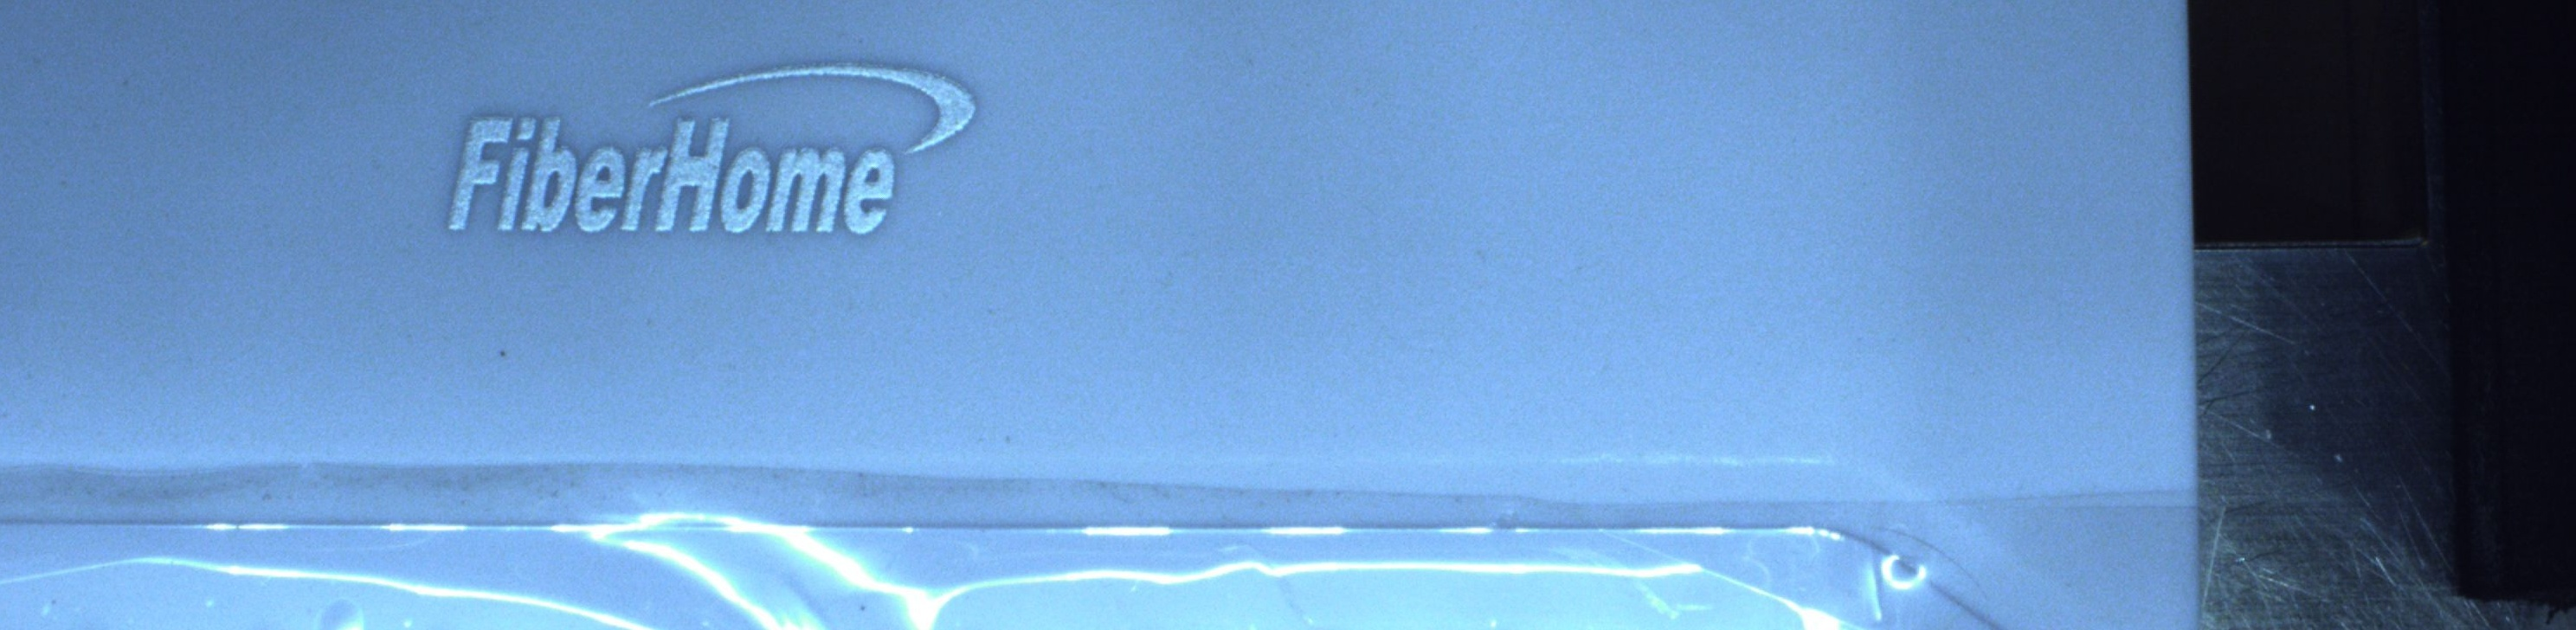AI_FiberHome: (417, 46, 1004, 262)
